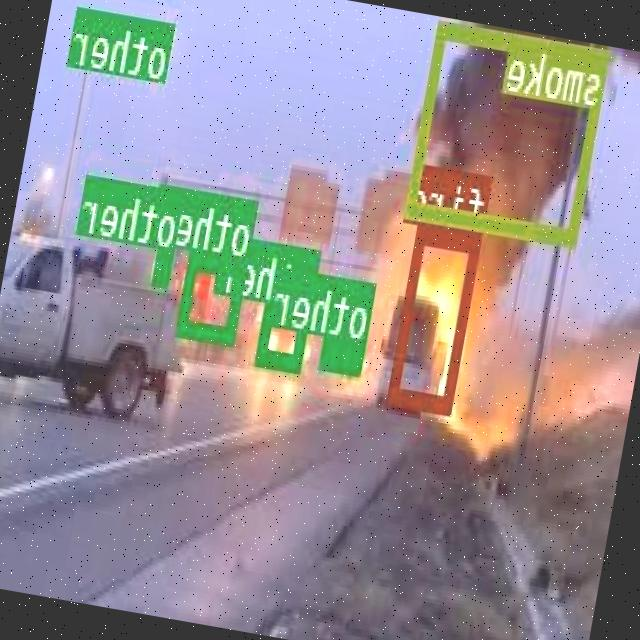fire: (390, 222, 484, 412)
smoke: (406, 18, 612, 244)
